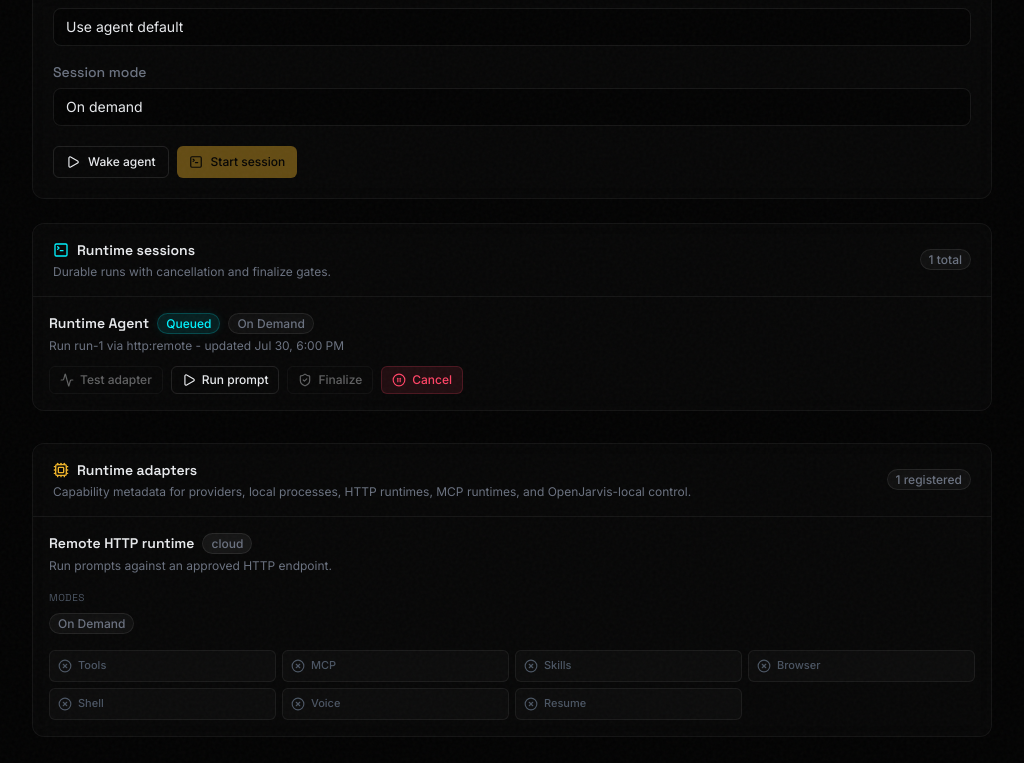
Scenario: JarvisRuntime adapter operations › disables duplicate prompt submission while a run is pending
This screenshot has width=1024, height=763.
(page scrolled)
Click the button "Run prompt" at (225, 380), box x1=171 y1=366 x2=280 y2=394
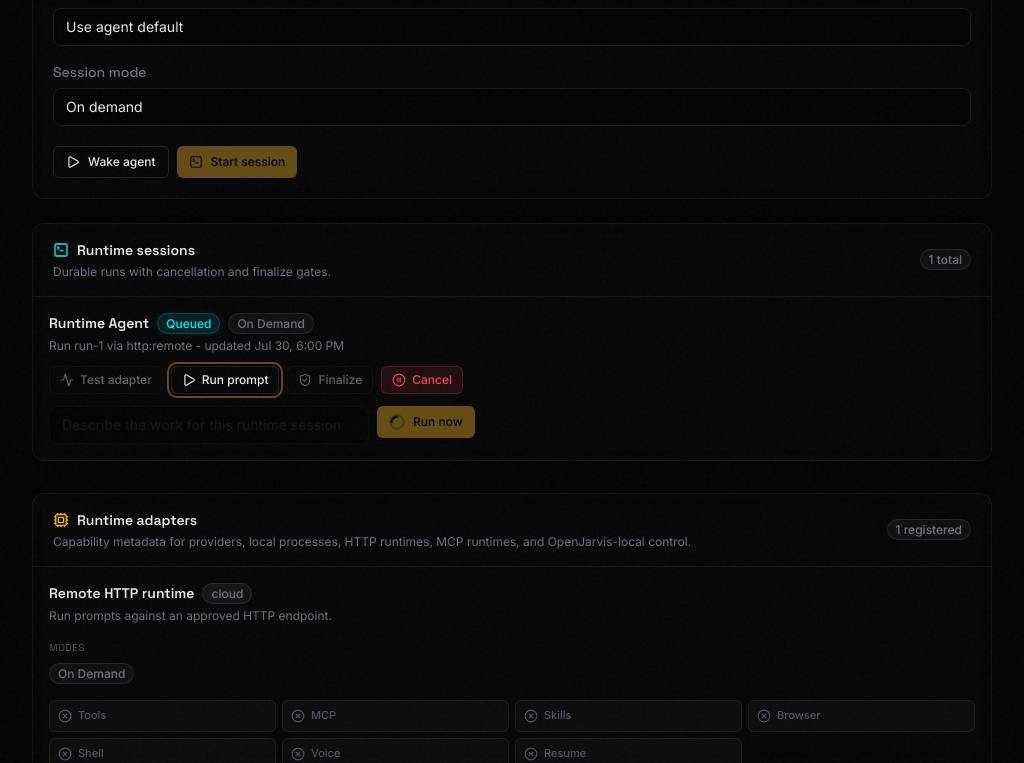
Expected: the button "Run now" is disabled, x1=377 y1=406 x2=475 y2=438
